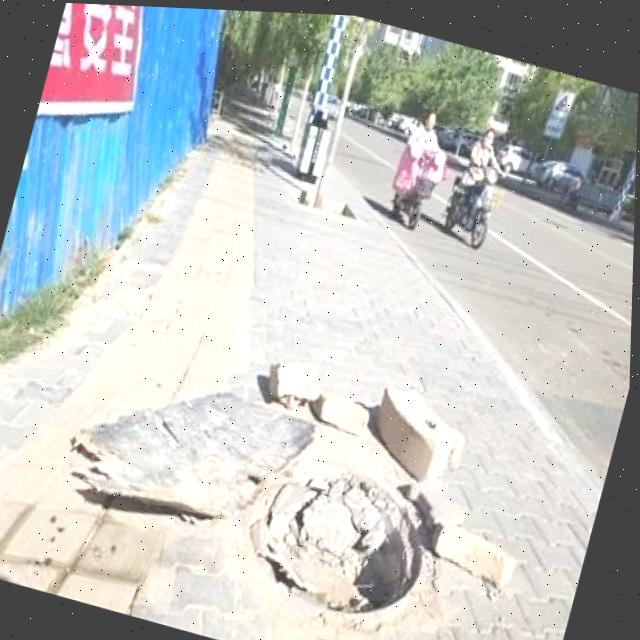manhole: (228, 426, 461, 640)
